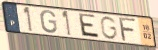1: (22, 6, 34, 34), (61, 10, 73, 38)
E: (78, 13, 101, 41)
F: (118, 16, 138, 43)
G: (99, 15, 119, 41), (40, 9, 59, 34)
